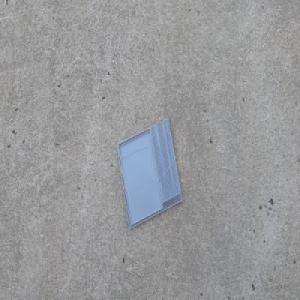PlasticPart: (115, 115, 183, 231)
